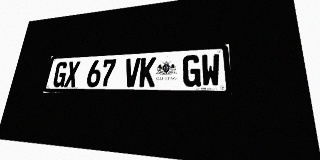6: (86, 60, 103, 87)
7: (99, 59, 116, 87)
G: (183, 55, 201, 87), (52, 62, 69, 87)
K: (139, 57, 156, 87)
V: (123, 58, 141, 87)
W: (201, 54, 221, 87)
X: (64, 61, 81, 87)
